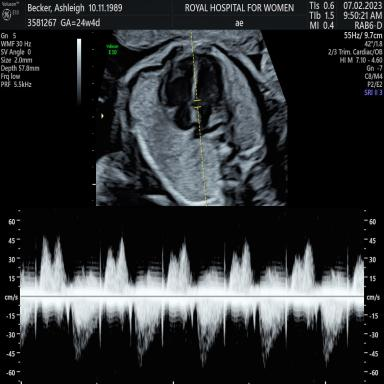Ultrasound-Waves: (25, 214, 362, 384)
